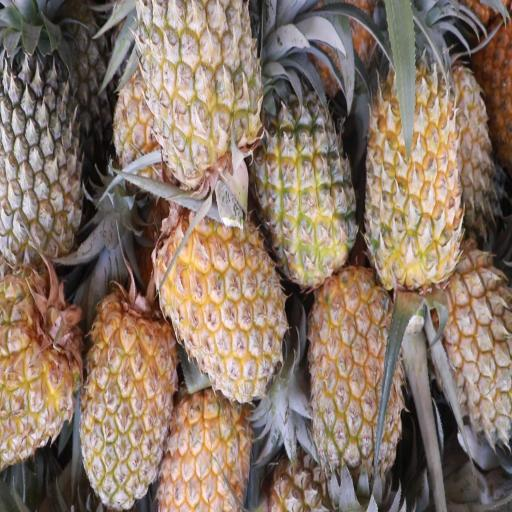------------------------------: (251, 55, 360, 301), (135, 0, 265, 205)
Pineapple - v8 v1: (361, 6, 468, 299), (151, 196, 291, 416), (304, 255, 406, 512), (78, 279, 181, 512), (0, 256, 87, 475), (435, 235, 512, 467), (155, 374, 254, 512)
